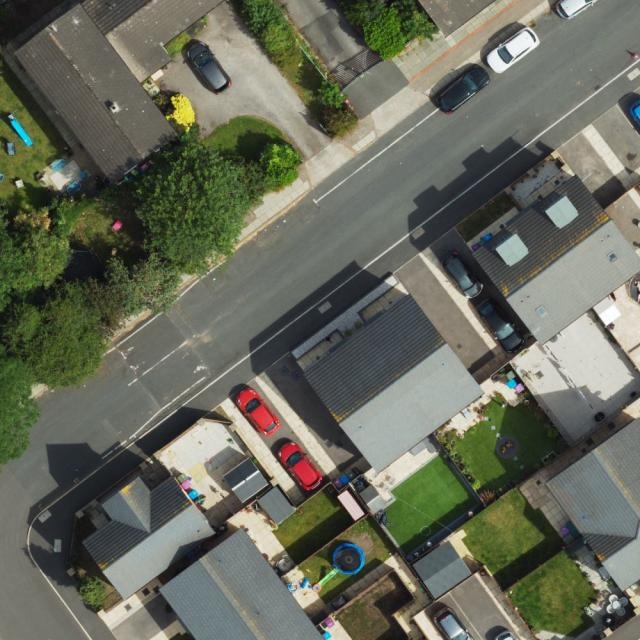roof: (15, 0, 226, 185), (304, 290, 485, 472), (470, 173, 640, 345), (161, 528, 326, 640), (546, 413, 640, 595), (86, 477, 217, 603)
skylight: (536, 303, 550, 319), (606, 249, 620, 264)
